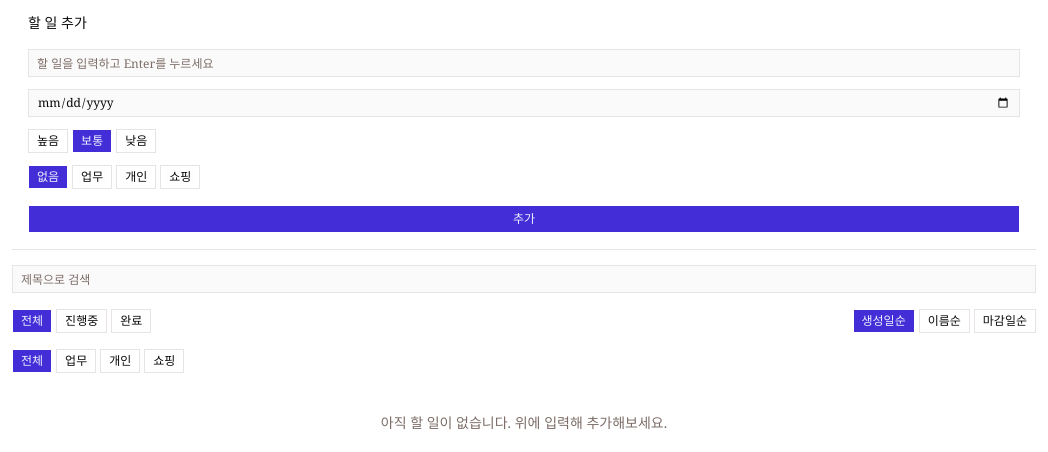
Test case: TodoList 검증 체크리스트 › 6. 우선순위(높음) 선택 후 추가 → 목록에 우선순위가 표시됨
This screenshot has width=1048, height=452.
Click the radio button labelled "높음": click(48, 141) [28, 129, 68, 153]
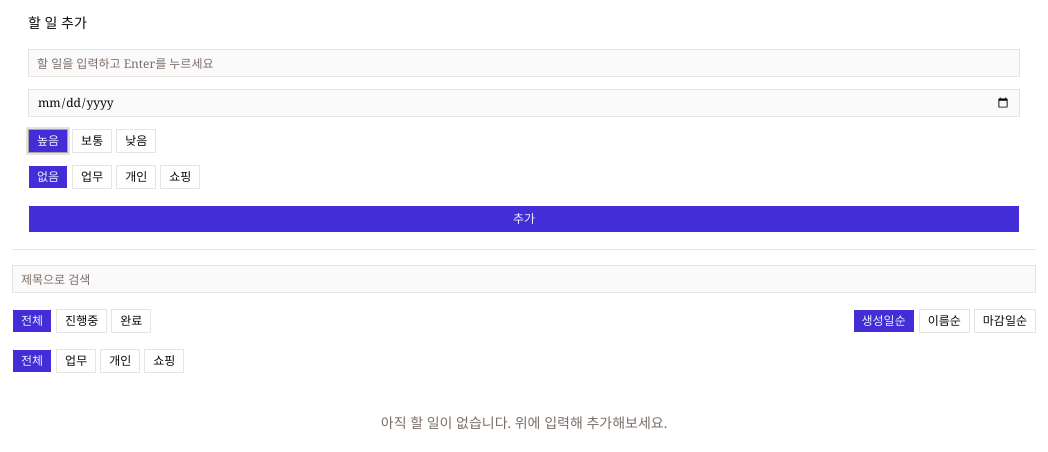
In the field named "새 할 일": (524, 63) [28, 49, 1020, 77], type "장보기"
Then press Enter
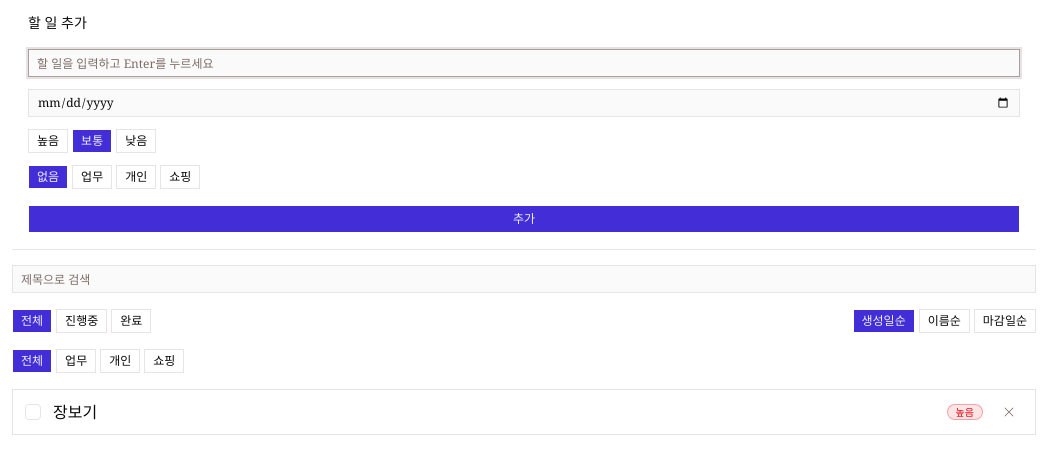
Now the list item shows "장보기", box [53, 401, 97, 423]
Now the list item shows "높음", box [956, 405, 974, 419]
